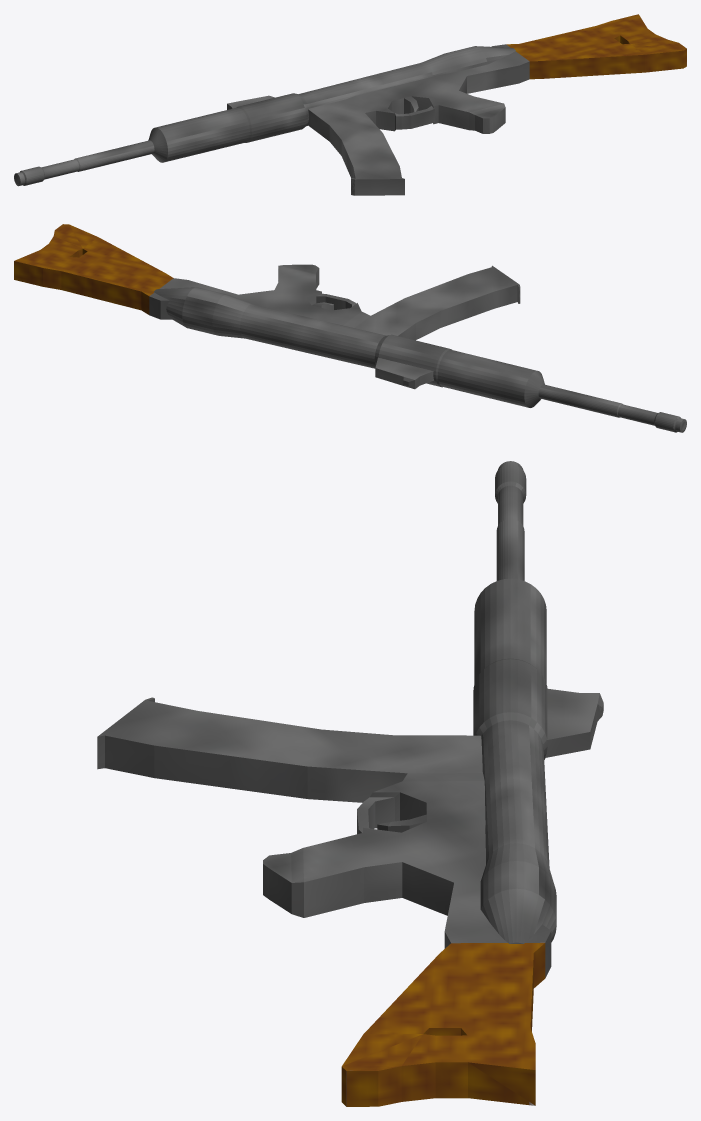
Rendered from Storm Rifle.obj.
3 renders of one model, top to bottom at view 1: azimuth 30°, elevation 25°; view 2: azimuth 150°, elevation 25°; view 3: azimuth 270°, elevation 25°, orthographic. The views are drawn at different scales.
Visible parts, largest first — view 1: Cube, Cylinder; view 2: Cube, Cylinder; view 3: Cube, Cylinder.
Boxes of the visible parts, x1=… form: Cube: x1=227, y1=14, x2=686, y2=195; Cylinder: x1=14, y1=46, x2=515, y2=186; Cube: x1=14, y1=224, x2=520, y2=389; Cylinder: x1=154, y1=287, x2=686, y2=432; Cube: x1=97, y1=688, x2=603, y2=1106; Cylinder: x1=473, y1=461, x2=556, y2=943.
Size of the model in its own units: 25.89 by 1.43 by 9.02.
